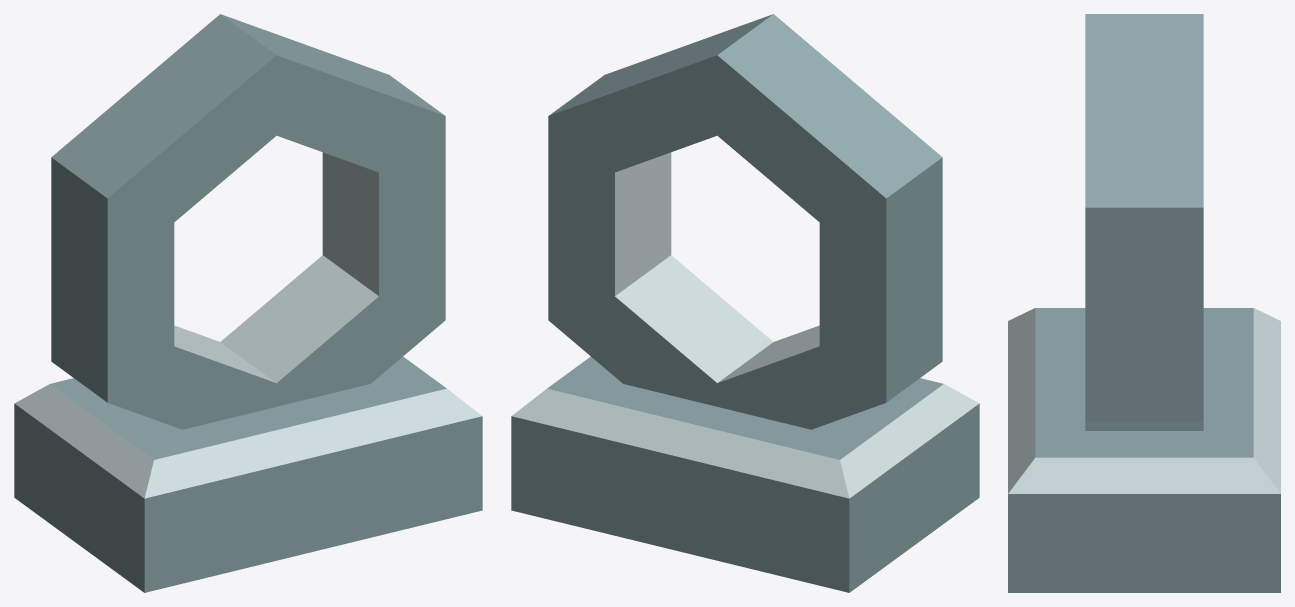
File: statue_ring.glb
The picture shows the model from 3 angles, left to right: view 1: azimuth 30°, elevation 25°; view 2: azimuth 150°, elevation 25°; view 3: azimuth 270°, elevation 25°; orthographic projection. The views are drawn at different scales.
Visible parts, largest first — view 1: statue_ring; view 2: statue_ring; view 3: statue_ring.
Boxes of the visible parts, x1=… form: statue_ring: x1=14, y1=14, x2=482, y2=592; statue_ring: x1=511, y1=14, x2=979, y2=592; statue_ring: x1=1008, y1=14, x2=1280, y2=592.
Bounding box in the file's own units: 0.697 × 0.9251 × 0.4646.
